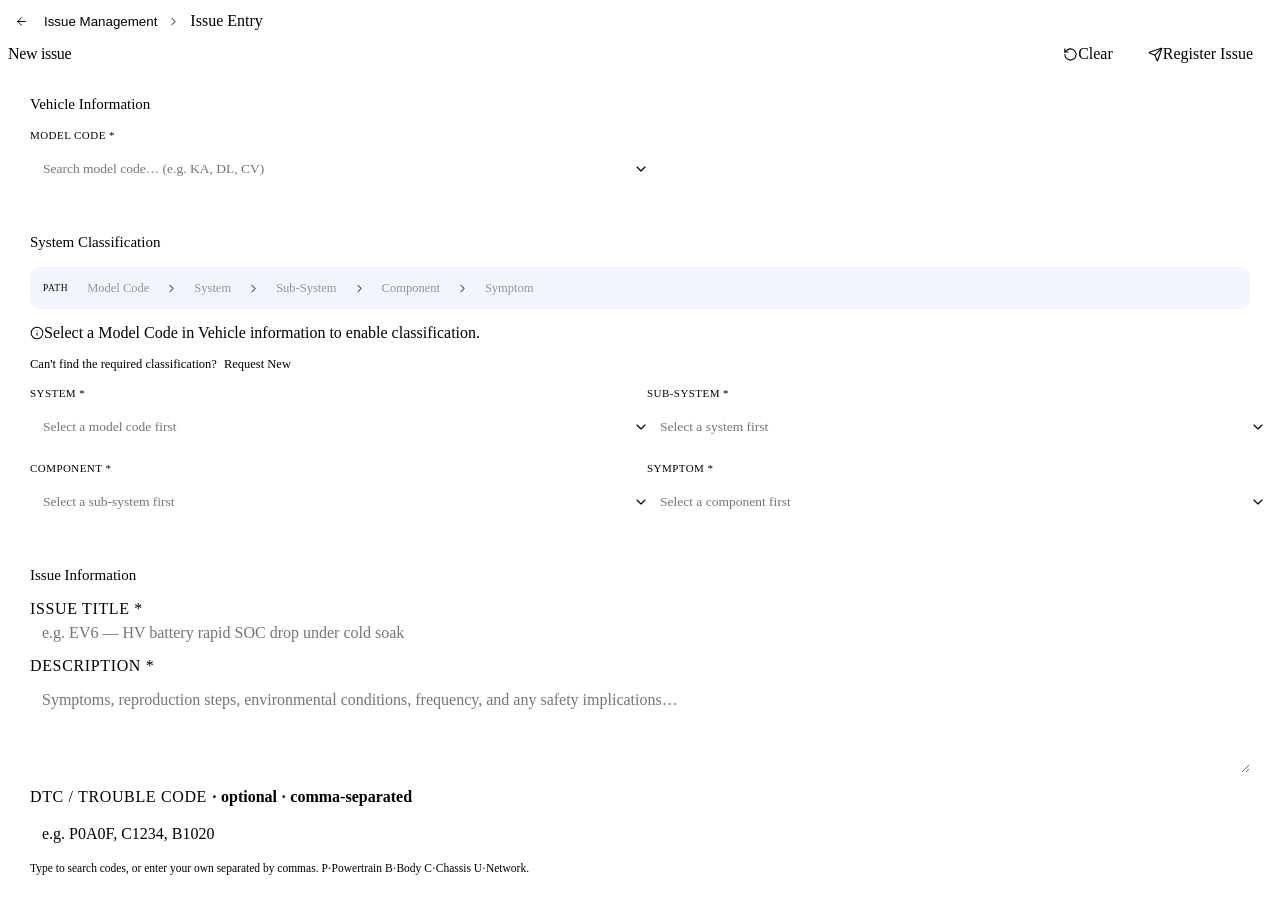
Test: Clear discards the draft — but asks first › Clear alone does not empty the form
In the field with placeholder "e.g. EV6 — HV battery rapid SOC drop under cold soak": (640, 633) [30,624,1250,642], type "something typed"
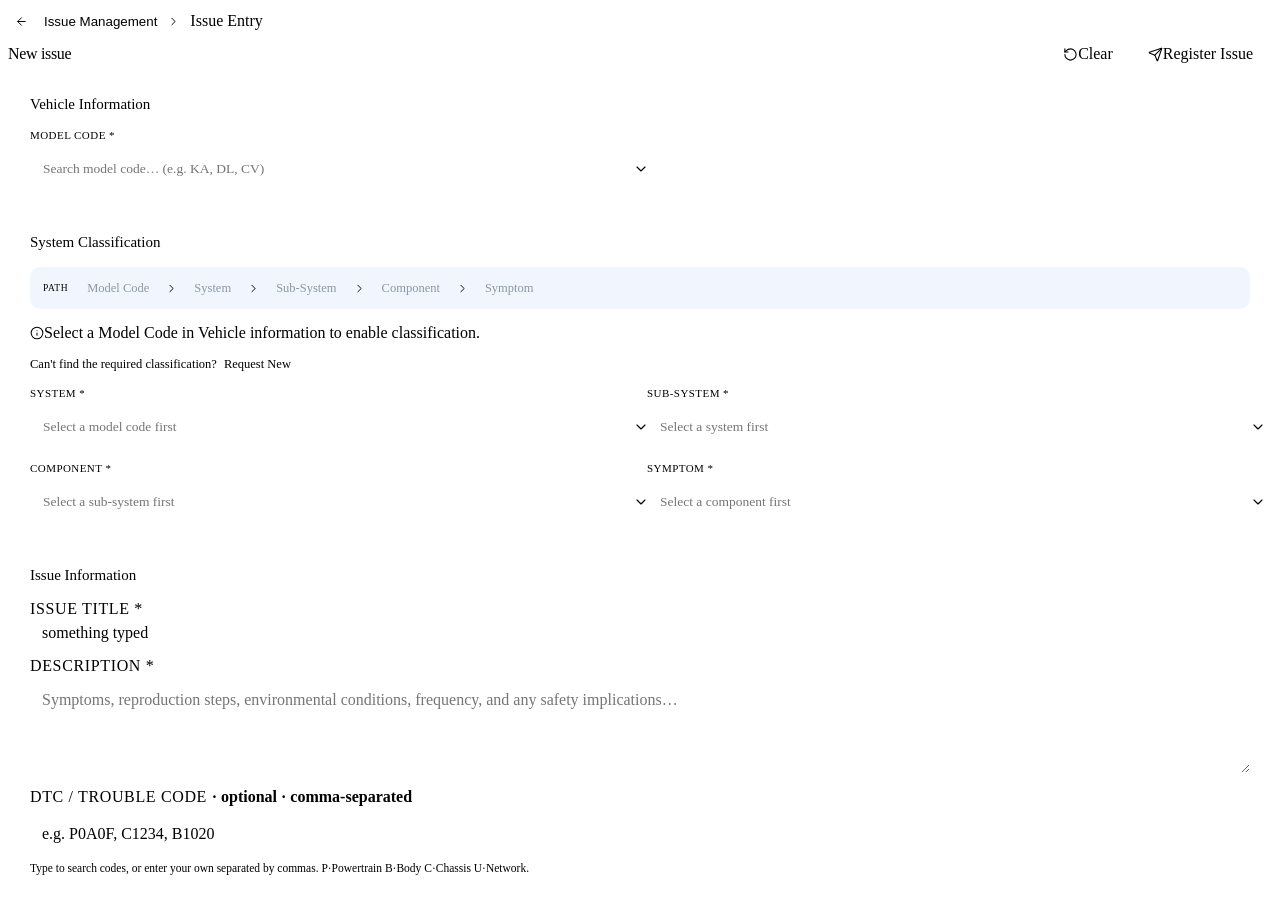
Click the button "Clear": (1088, 54) [1047,34,1129,74]
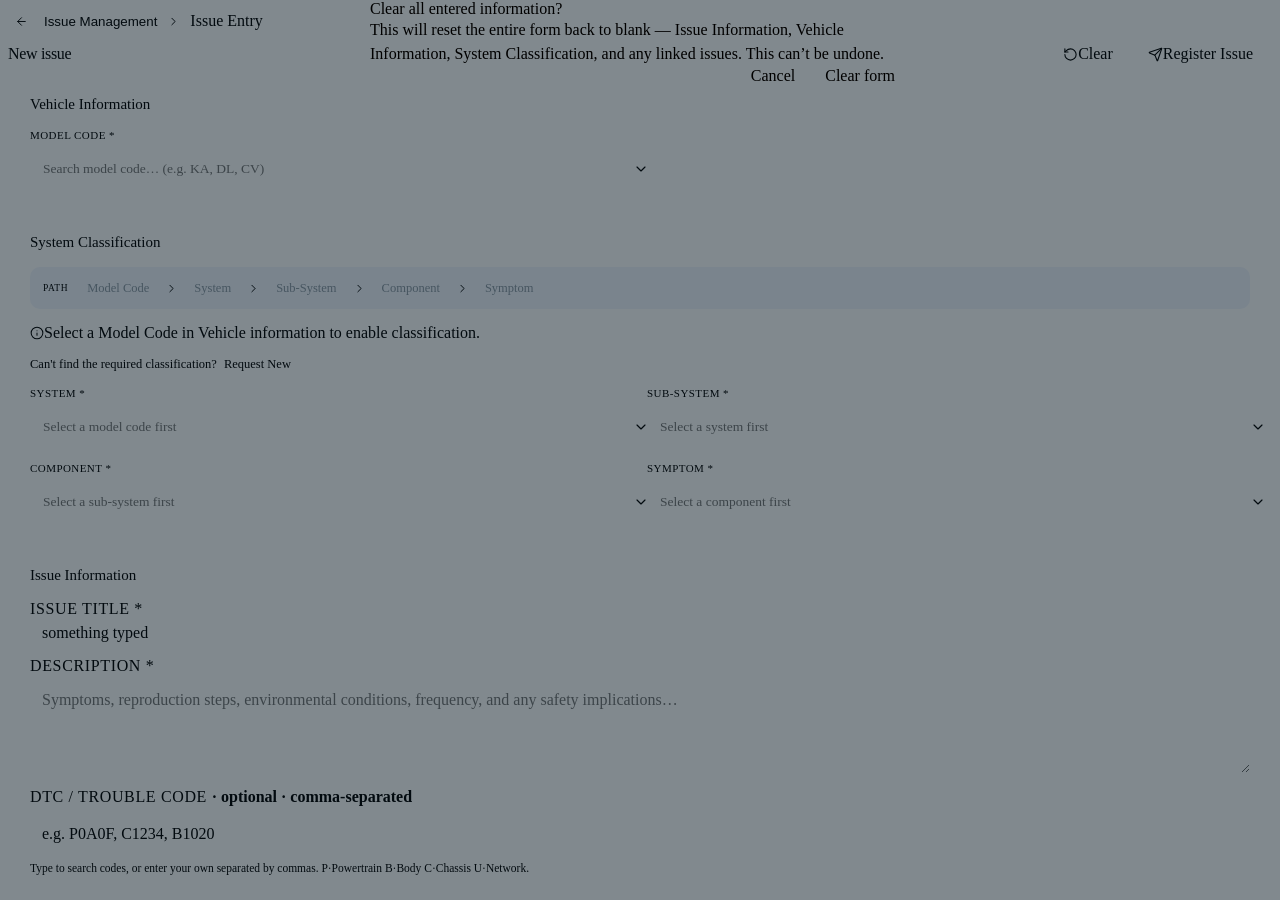
Expected: the text "Clear all entered information?" is shown, [370,0,562,17]
